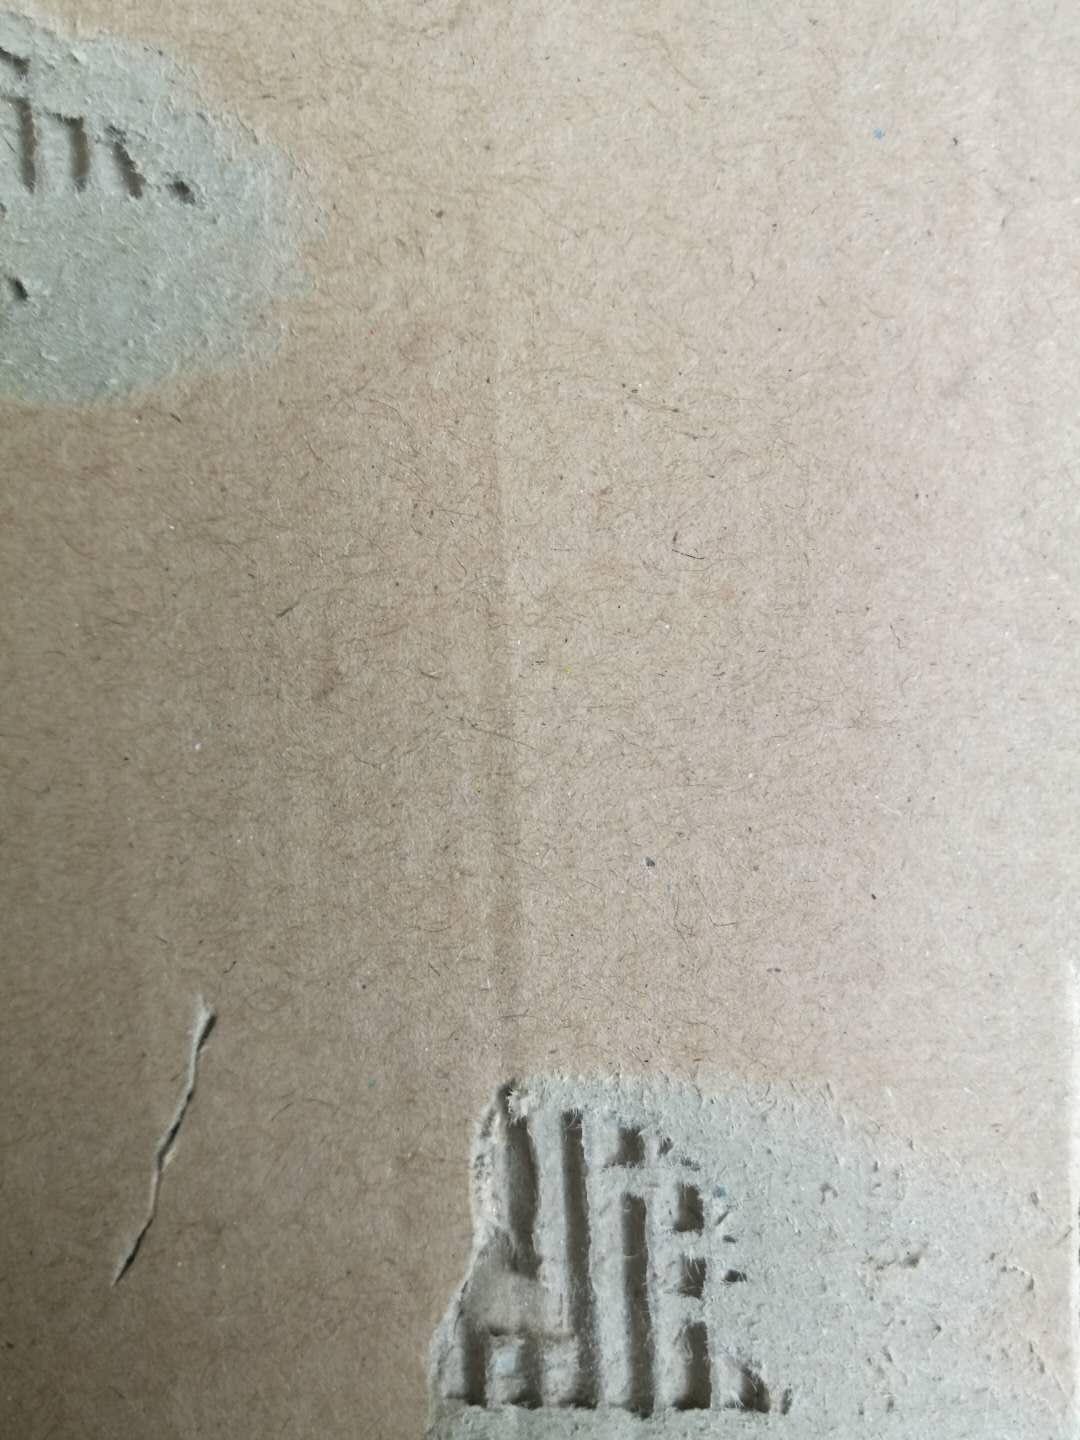defect: (393, 1045, 1080, 1439), (2, 5, 335, 438), (92, 969, 243, 1298)
